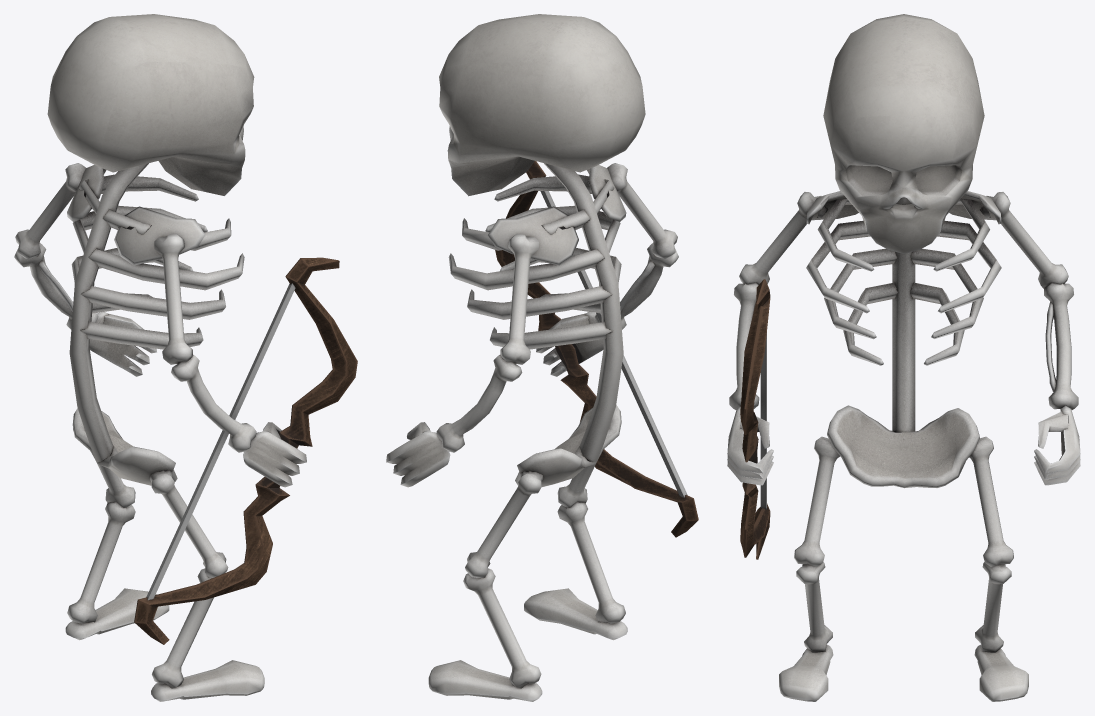
File: ArcherSkeleton.glb
3 views of the same model, side by side, from view 1: azimuth 30°, elevation 25°; view 2: azimuth 150°, elevation 25°; view 3: azimuth 270°, elevation 25° (orthographic).
Visible parts, largest first — view 1: Cube.005, Cube.002; view 2: Cube.005, Cube.002; view 3: Cube.005, Cube.002.
Boxes of the visible parts, x1=… form: Cube.005: x1=14, y1=14, x2=306, y2=701; Cube.002: x1=134, y1=257, x2=357, y2=644; Cube.005: x1=386, y1=14, x2=678, y2=701; Cube.002: x1=495, y1=161, x2=698, y2=537; Cube.005: x1=727, y1=14, x2=1080, y2=701; Cube.002: x1=740, y1=279, x2=770, y2=559.
Bounding box in the file's own units: 0.3317 × 0.9238 × 0.4603.
Materials: 1 (1 with a texture image).
